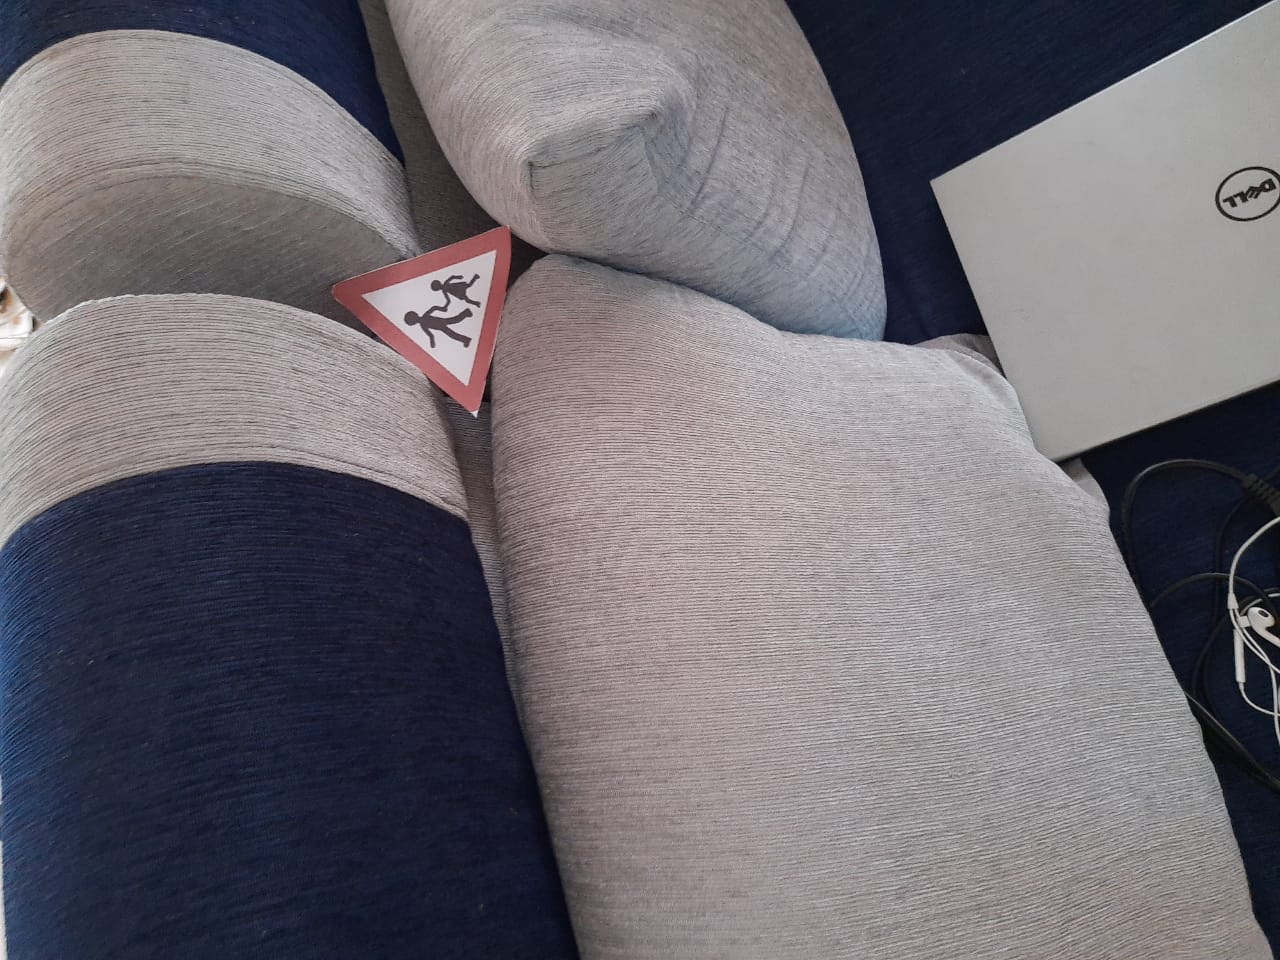SCHOOL ZONE: (332, 202, 528, 419)
